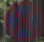No Stopping: (2, 3, 43, 40)
